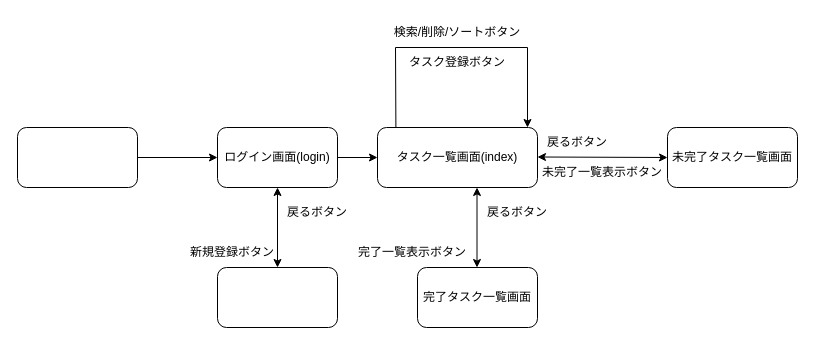
Image size: 815x345. Some labels were removed from this diagram. The centre of each missing label's shape, as x and y in pixels:
"ユーザー登録画面" belongs at point 277,297.
"ログイン前画面(top)" belongs at point 77,157.
